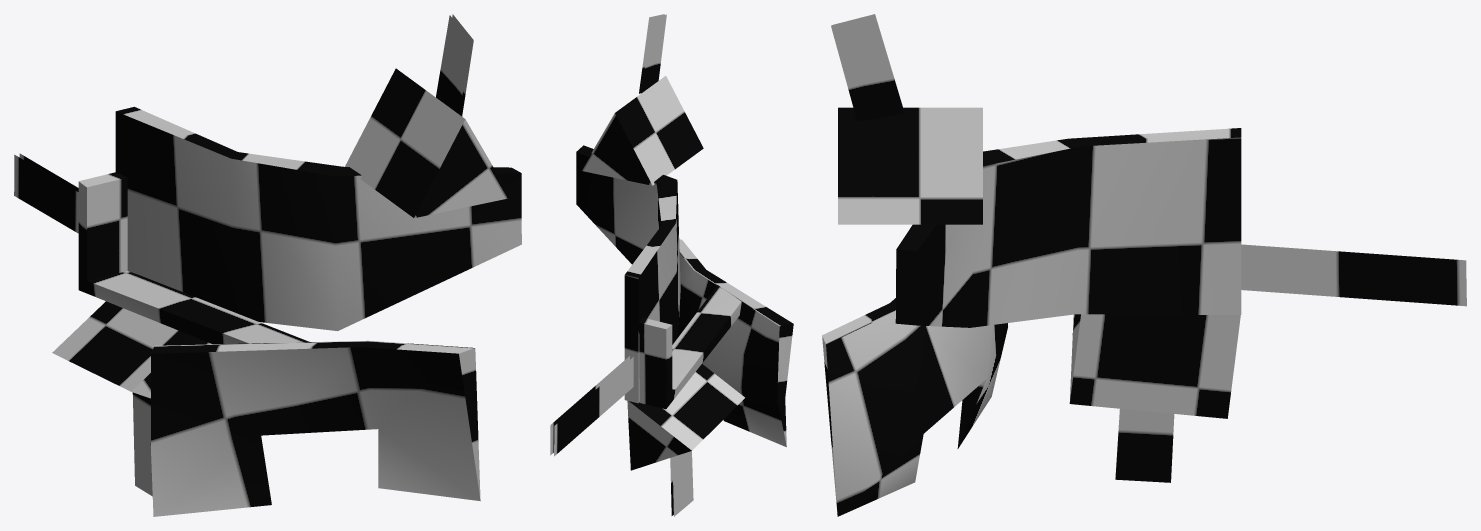
Rendered from vru_scrap.obj.
3 views of the same model, side by side, from view 1: azimuth 30°, elevation 25°; view 2: azimuth 150°, elevation 25°; view 3: azimuth 270°, elevation 25° (orthographic). The views are drawn at different scales.
Visible parts, largest first — view 1: vru_scrap; view 2: vru_scrap; view 3: vru_scrap.
Boxes of the visible parts, x1,y1,x2,y2 form: vru_scrap: (14, 14, 521, 516); vru_scrap: (550, 14, 793, 516); vru_scrap: (822, 14, 1466, 516).
Size of the model in its own units: 90.16 by 140 by 147.
1 material, 1 textured.
